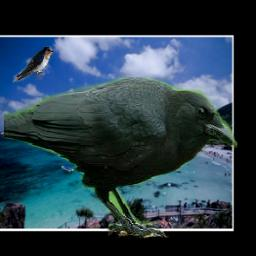Crow: (3, 78, 236, 240)
Swallow: (12, 46, 54, 82)
